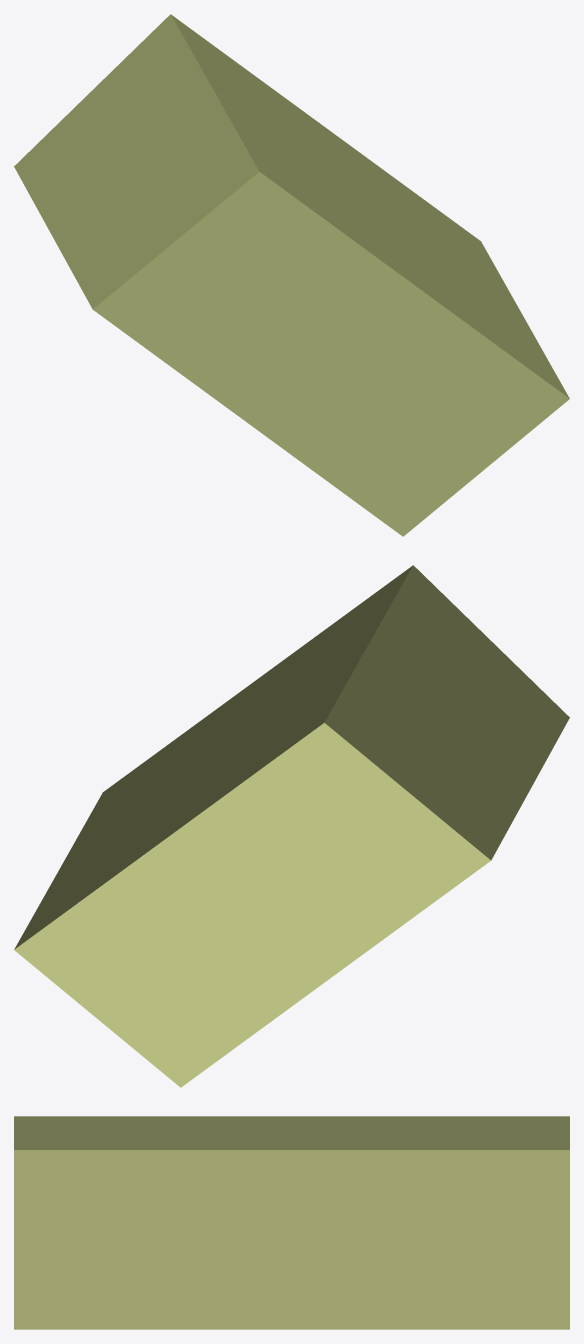
The picture shows the model from 3 angles, top to bottom: view 1: azimuth 30°, elevation 25°; view 2: azimuth 150°, elevation 25°; view 3: azimuth 270°, elevation 25°; orthographic projection. The views are drawn at different scales.
Parts seen in each view (by area): view 1: 0_1_1_3_2_2_0_2_3_3_0_0; view 2: 0_1_1_3_2_2_0_2_3_3_0_0; view 3: 0_1_1_3_2_2_0_2_3_3_0_0.
Part boxes in pixels (x1,y1,x2,y2): 0_1_1_3_2_2_0_2_3_3_0_0: (14,14,569,536); 0_1_1_3_2_2_0_2_3_3_0_0: (14,565,569,1087); 0_1_1_3_2_2_0_2_3_3_0_0: (14,1116,569,1329).
Bounding box in the file's own units: 4.11 × 4.42 × 9.
